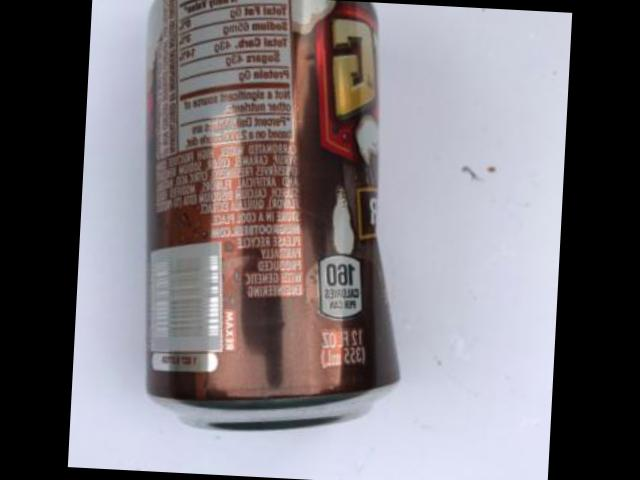metal: (150, 0, 401, 429)
